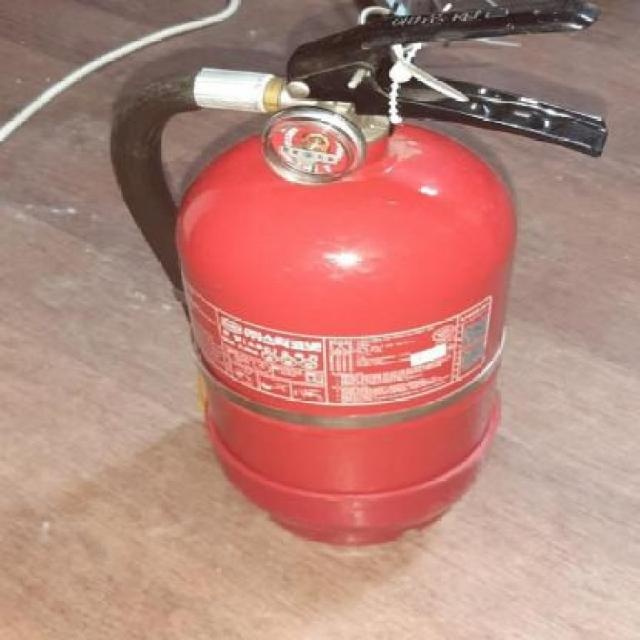fire extinguisher: (110, 0, 607, 548)
